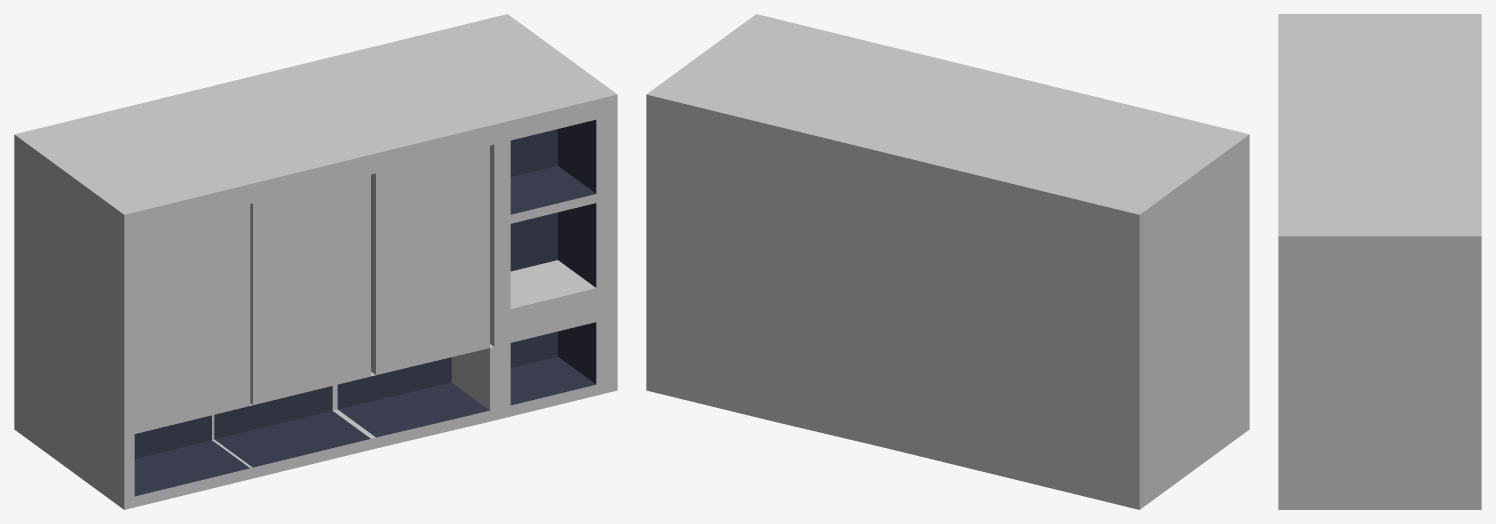
File: Cupboard1.fbx
The picture shows the model from 3 angles, left to right: view 1: azimuth 30°, elevation 25°; view 2: azimuth 150°, elevation 25°; view 3: azimuth 270°, elevation 25°; orthographic projection. The views are drawn at different scales.
Parts seen in each view (by area): view 1: Cube.002; view 2: Cube.002; view 3: Cube.002.
Part boxes in pixels (x1,y1,x2,y2): Cube.002: [14, 14, 617, 509]; Cube.002: [646, 14, 1249, 509]; Cube.002: [1278, 14, 1481, 509].
Bounding box in the file's own units: 1.73 × 0.9931 × 0.669.
